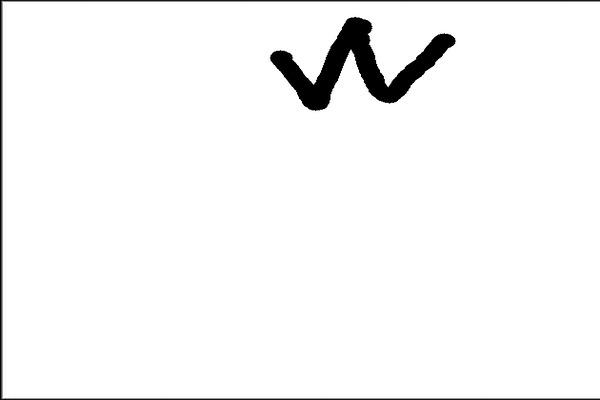w: (259, 2, 460, 130)
